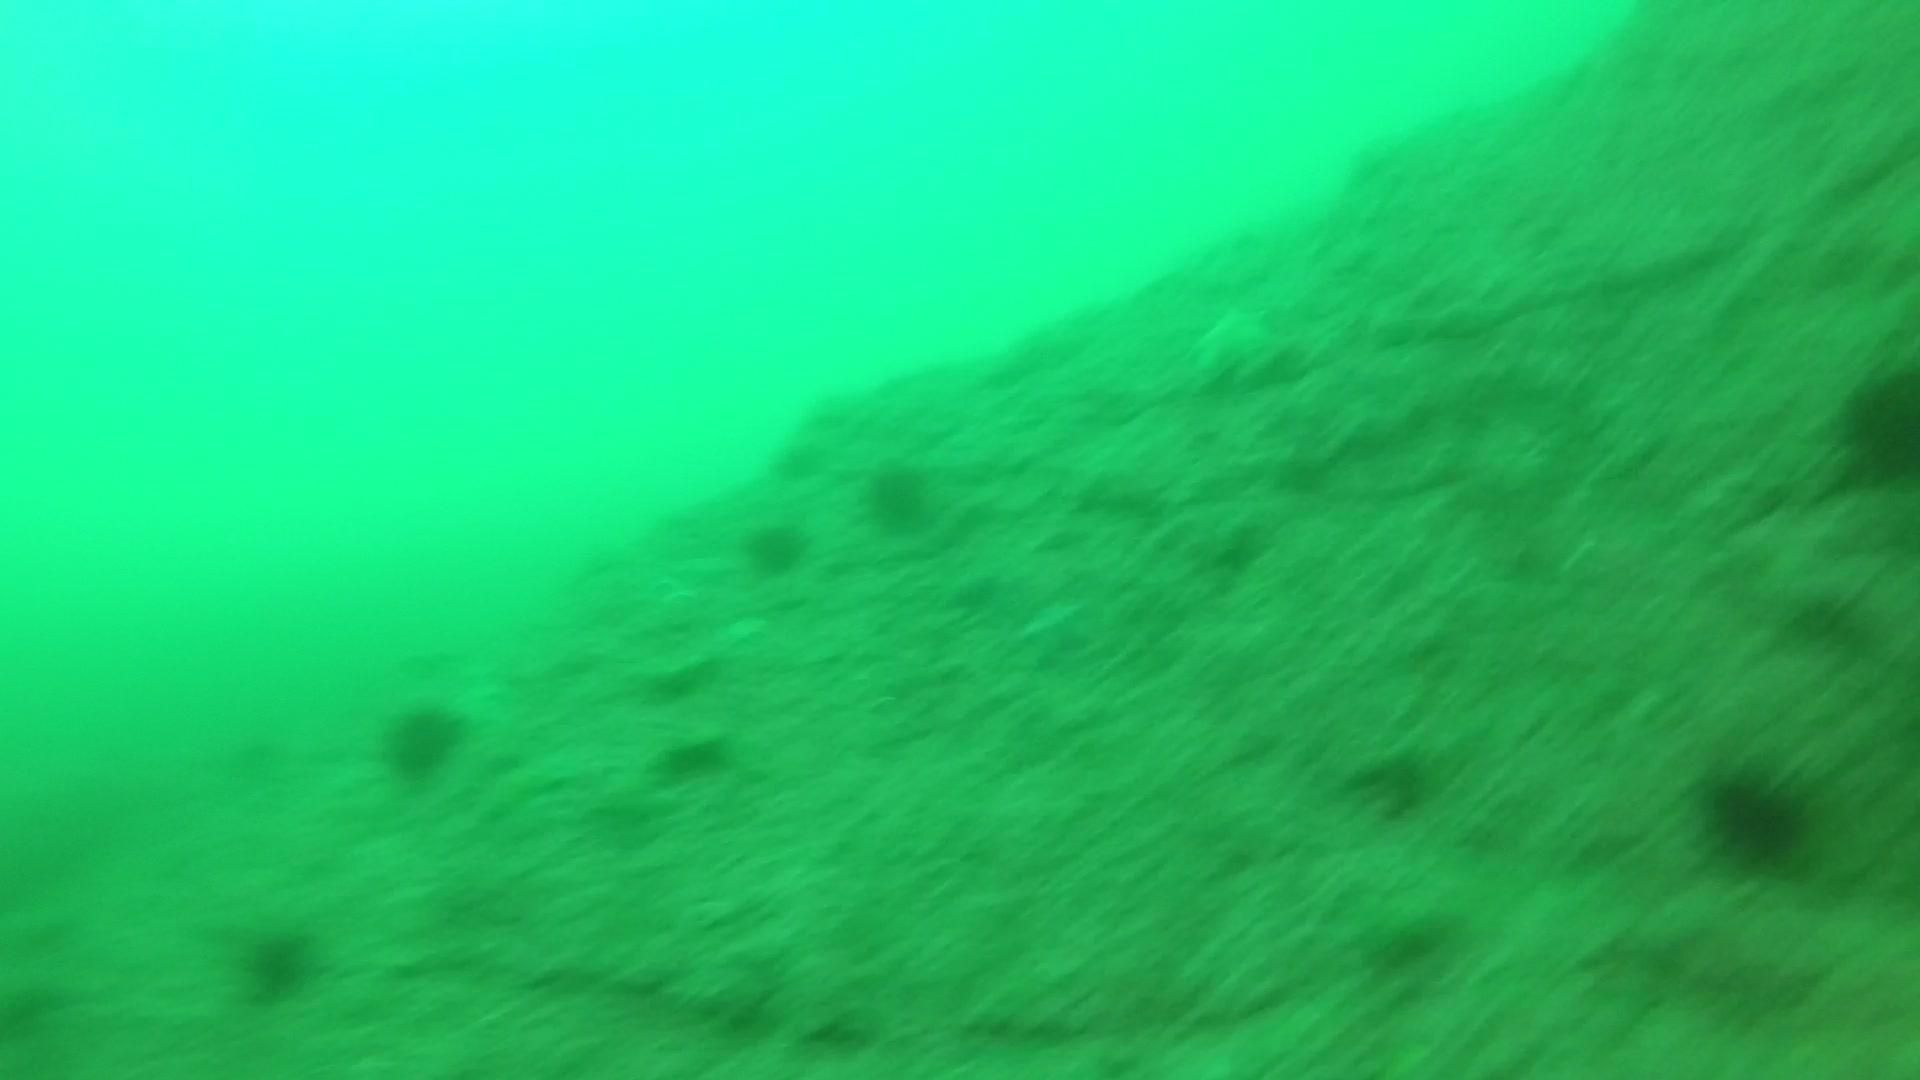echinus: (1695, 756, 1818, 872), (1832, 356, 1919, 488), (375, 694, 469, 783), (232, 916, 324, 1004), (1345, 741, 1443, 822), (858, 455, 940, 537), (651, 725, 735, 787), (737, 513, 812, 580)
starfish: (1185, 299, 1292, 393)
